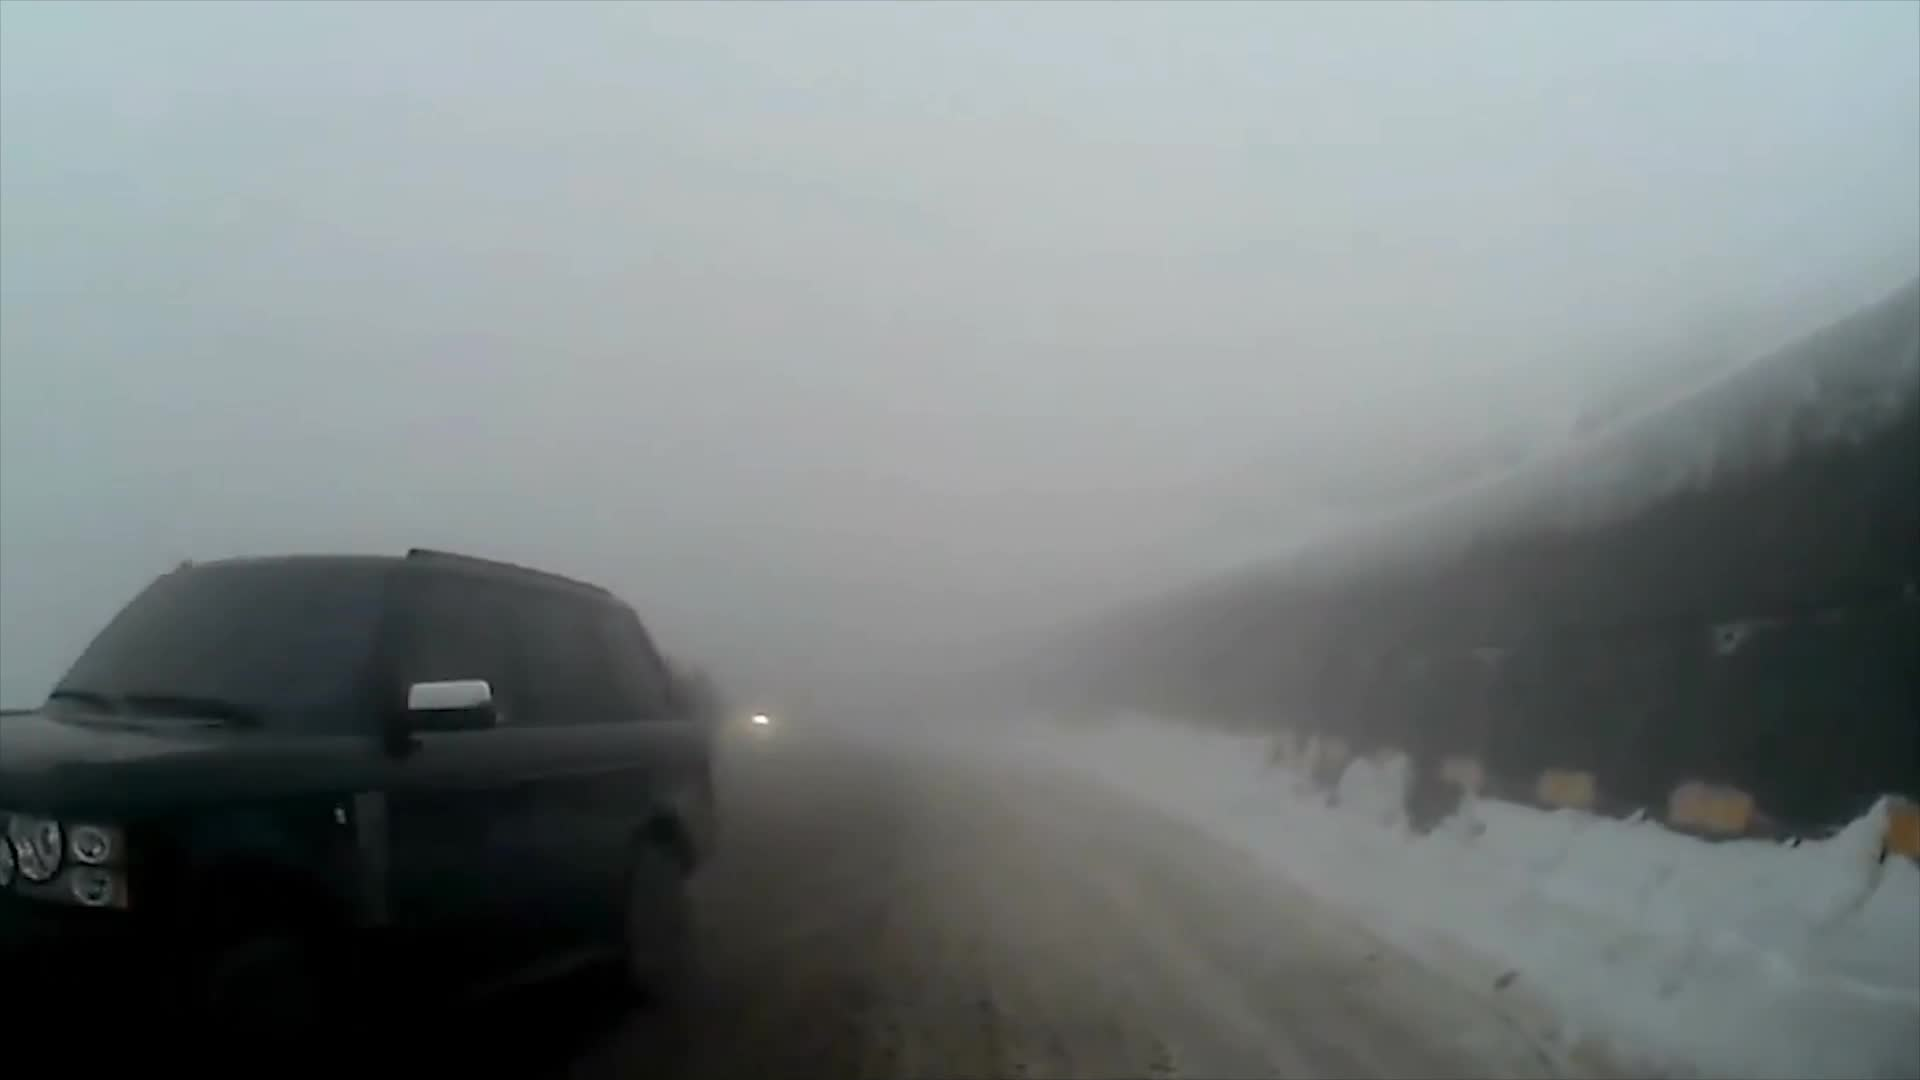vehicle: (0, 545, 717, 1080)
